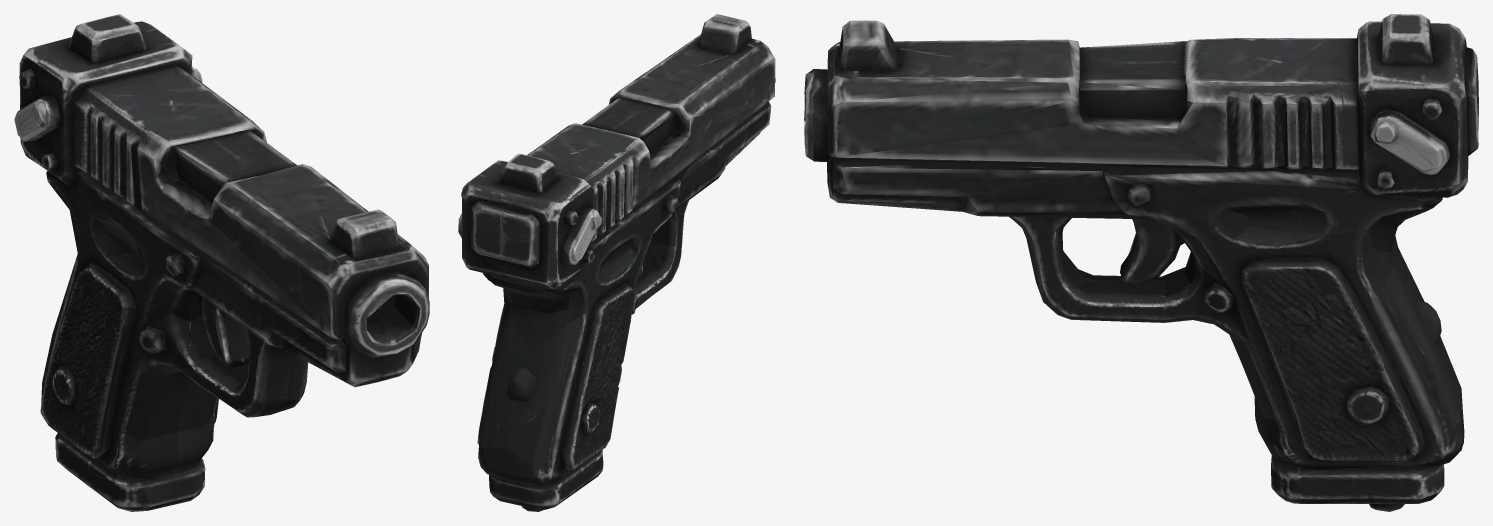
Rendered from gun_switch.glb.
The picture shows the model from 3 angles, left to right: view 1: azimuth 30°, elevation 25°; view 2: azimuth 150°, elevation 25°; view 3: azimuth 270°, elevation 25°; orthographic projection. The views are drawn at different scales.
Size of the model in its own units: 0.0611 by 0.1668 by 0.21.
Materials: 1 (1 with a texture image).
